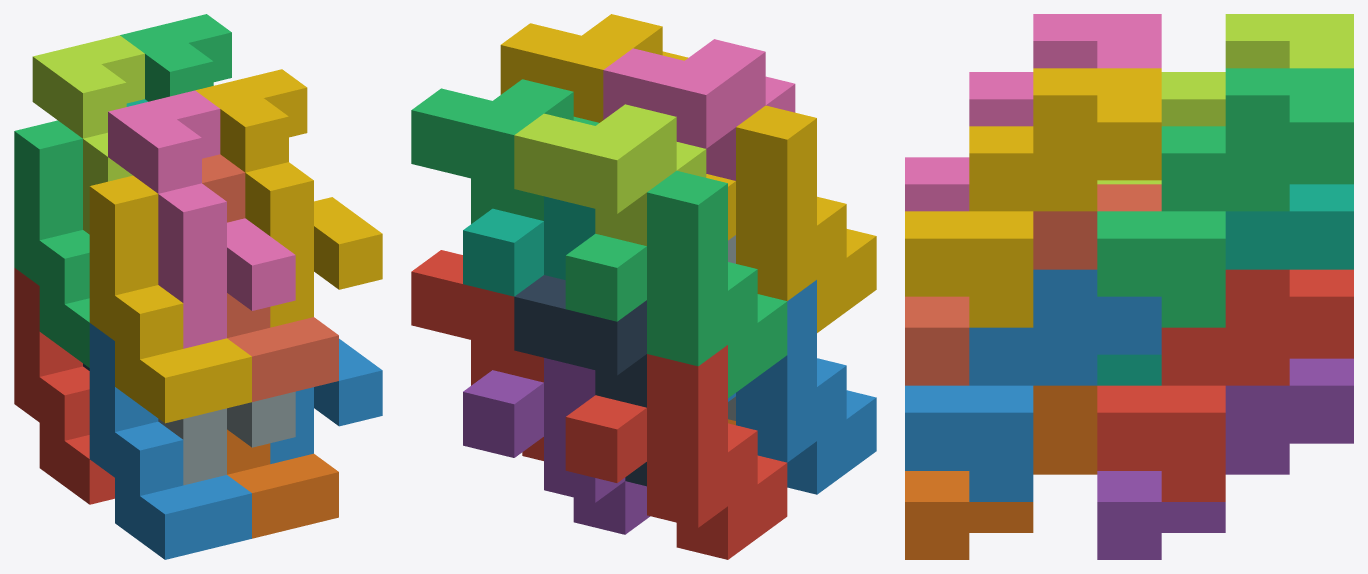
File: tiling.obj
The picture shows the model from 3 angles, left to right: view 1: azimuth 30°, elevation 25°; view 2: azimuth 150°, elevation 25°; view 3: azimuth 270°, elevation 25°; orthographic projection. The views are drawn at different scales.
Parts seen in each view (by area): view 1: copy_2_domain_4, copy_1_domain_4, copy_2_domain_8, copy_1_domain_2, copy_1_domain_3, copy_1_domain_1, copy_2_domain_3, copy_1_domain_8, copy_1_domain_6, copy_2_domain_7, copy_2_domain_2, copy_2_domain_6; view 2: copy_1_domain_1, copy_1_domain_3, copy_1_domain_4, copy_2_domain_3, copy_1_domain_2, copy_2_domain_4, copy_1_domain_5, copy_2_domain_7, copy_2_domain_1, copy_2_domain_8, copy_2_domain_5, copy_1_domain_7; view 3: copy_2_domain_7, copy_2_domain_8, copy_2_domain_5, copy_2_domain_6, copy_1_domain_5, copy_2_domain_4, copy_1_domain_6, copy_1_domain_8, copy_1_domain_7, copy_2_domain_3.
Boxes of the visible parts, x1,y1,x2,y2 form: copy_2_domain_4: [108, 90, 295, 348]; copy_1_domain_4: [89, 175, 251, 423]; copy_2_domain_8: [195, 69, 382, 327]; copy_1_domain_2: [89, 323, 251, 559]; copy_1_domain_3: [14, 120, 89, 367]; copy_1_domain_1: [14, 268, 114, 504]; copy_2_domain_3: [32, 35, 144, 234]; copy_1_domain_8: [202, 154, 338, 401]; copy_1_domain_6: [227, 429, 338, 538]; copy_2_domain_7: [120, 14, 231, 101]; copy_2_domain_2: [158, 391, 295, 485]; copy_2_domain_6: [270, 338, 382, 463]; copy_1_domain_1: [565, 345, 787, 559]; copy_1_domain_3: [565, 170, 787, 398]; copy_1_domain_4: [706, 105, 876, 332]; copy_2_domain_3: [514, 104, 706, 245]; copy_1_domain_2: [728, 280, 876, 494]; copy_2_domain_4: [603, 39, 795, 180]; copy_1_domain_5: [463, 358, 650, 534]; copy_2_domain_7: [411, 79, 598, 223]; copy_2_domain_1: [514, 275, 646, 486]; copy_2_domain_8: [500, 14, 688, 122]; copy_2_domain_5: [411, 250, 543, 460]; copy_1_domain_7: [463, 196, 595, 296]; copy_2_domain_7: [1097, 68, 1353, 327]; copy_2_domain_8: [905, 68, 1161, 327]; copy_2_domain_5: [1097, 269, 1353, 501]; copy_2_domain_6: [905, 269, 1161, 501]; copy_1_domain_5: [1097, 358, 1353, 559]; copy_2_domain_4: [905, 14, 1161, 211]; copy_1_domain_6: [905, 385, 1097, 559]; copy_1_domain_8: [905, 184, 1161, 385]; copy_1_domain_7: [1097, 184, 1353, 385]; copy_2_domain_3: [1097, 14, 1353, 184].
Bounding box in the file's own units: 5 × 8 × 7.
